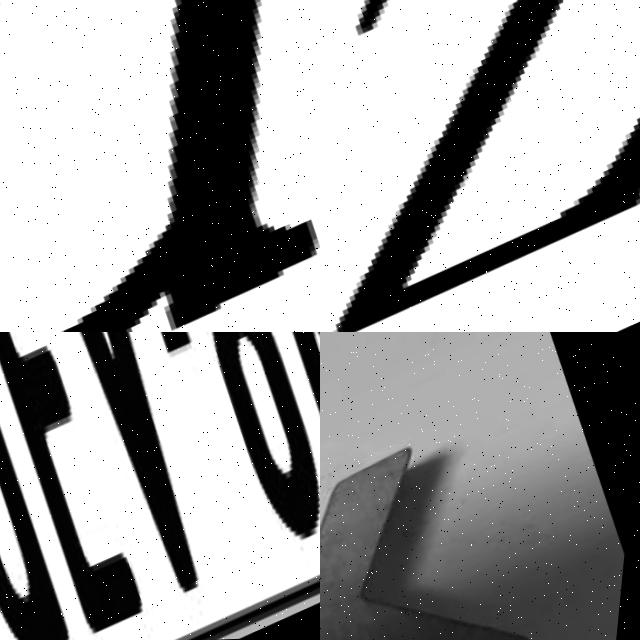8: (85, 332, 320, 567)
E: (0, 332, 193, 635)
G: (0, 332, 126, 640)
N: (163, 332, 320, 533)
U: (0, 0, 320, 332)
V: (0, 332, 282, 636)
X: (320, 430, 540, 640)
Z: (320, 0, 640, 332)
